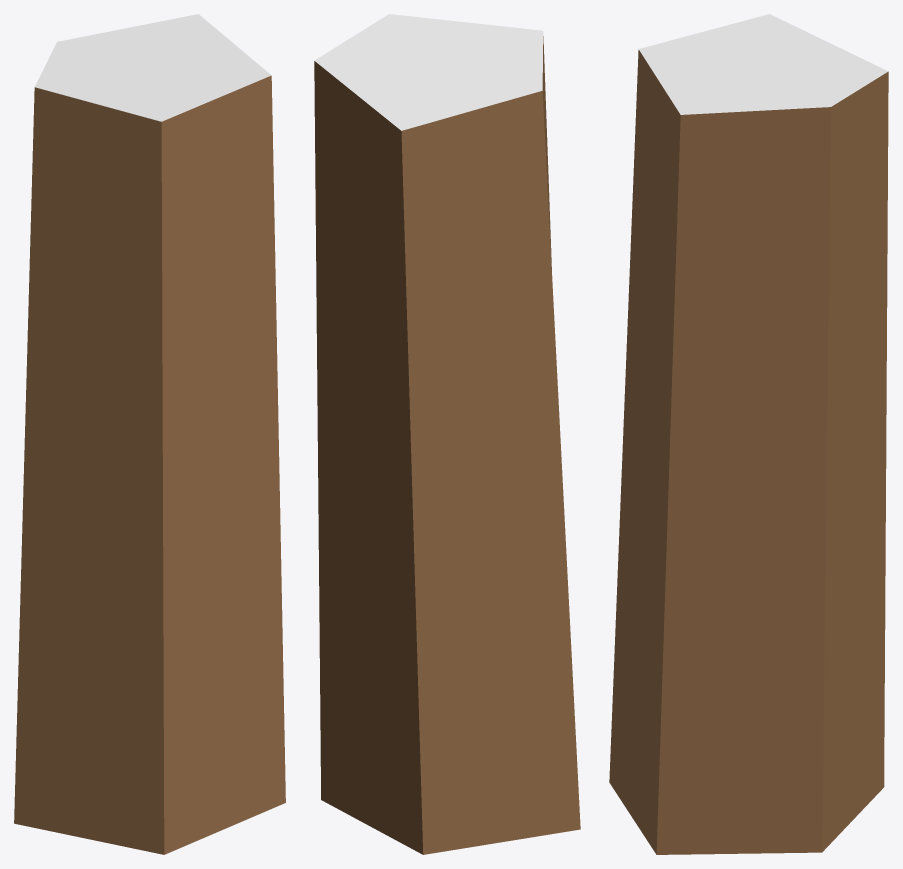
The model's file is Pine_Stump_Snow_01_LOD.fbx.
The picture shows the model from 3 angles, left to right: view 1: azimuth 30°, elevation 25°; view 2: azimuth 150°, elevation 25°; view 3: azimuth 270°, elevation 25°; orthographic projection. The views are drawn at different scales.
Parts seen in each view (by area): view 1: Pine_Stump_Snow_01_LOD0; view 2: Pine_Stump_Snow_01_LOD0; view 3: Pine_Stump_Snow_01_LOD0.
Part boxes in pixels (x1=…): Pine_Stump_Snow_01_LOD0: x1=14, y1=14, x2=285, y2=854; Pine_Stump_Snow_01_LOD0: x1=314, y1=14, x2=580, y2=854; Pine_Stump_Snow_01_LOD0: x1=609, y1=14, x2=888, y2=854.
Size of what is drawn, in the model's own units: 64.79 by 200 by 67.77.
